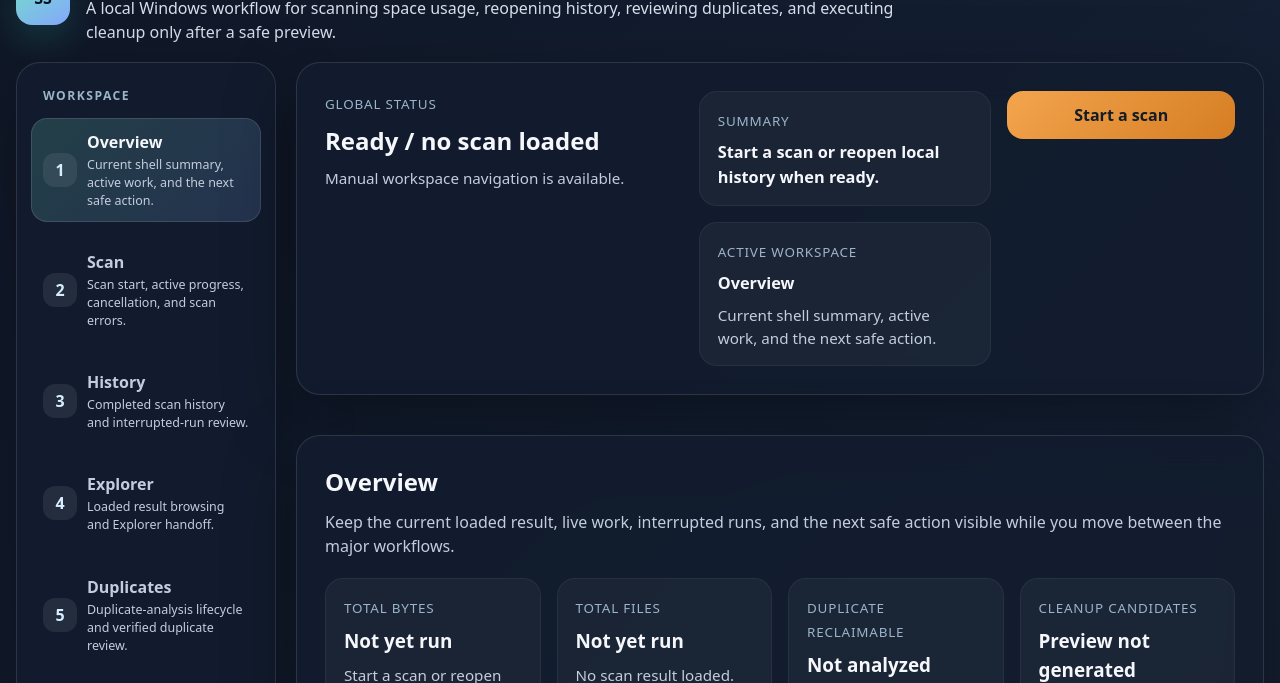
Test: Space Sift scan and history flow › starts, cancels, and reopens scan history from local data
Click the tab "Scan".
click(146, 290)  # box top-left (31, 238), bottom-right (261, 342)
(page scrolled)
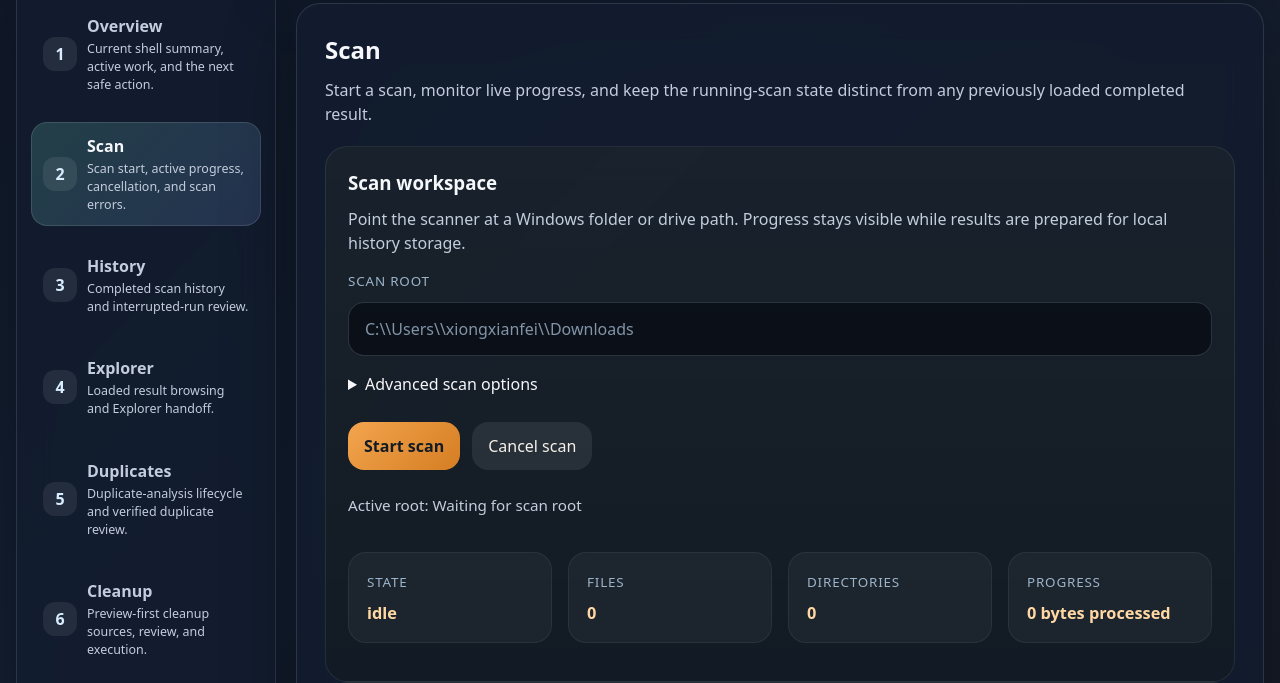
Result: the tab "Scan" is selected at top-left (31, 122), bottom-right (261, 226)
Type "C:\\Users\\xiongxianfei\\Downloads" into the field labelled "Scan root".
click(780, 329); type("C:\\Users\\xiongxianfei\\Downloads")  # box top-left (348, 302), bottom-right (1212, 356)
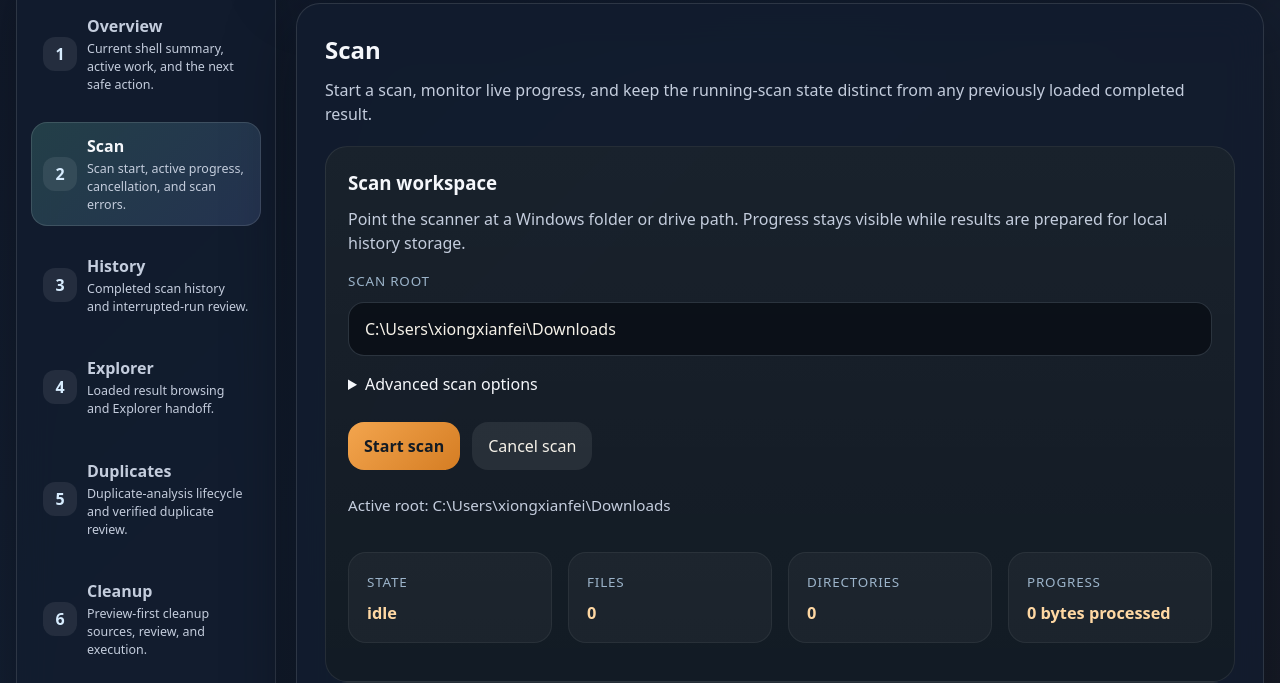
Click the button "Start scan".
click(404, 446)  # box top-left (348, 422), bottom-right (460, 470)
(page scrolled)
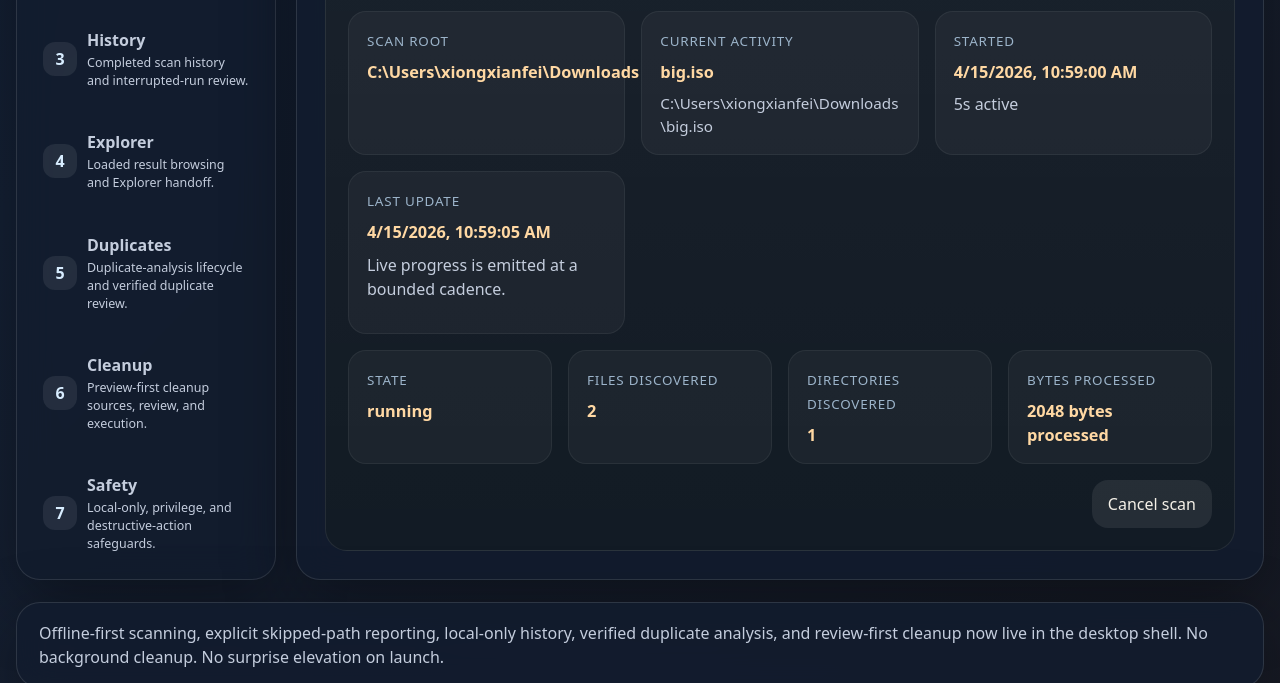
Result: the text "running" is shown at top-left (367, 400), bottom-right (433, 422)
Result: the text "2048 bytes processed" is shown at top-left (1027, 400), bottom-right (1113, 446)
Click the button "Cancel scan".
click(1152, 504)  # box top-left (1092, 480), bottom-right (1212, 528)
(page scrolled)
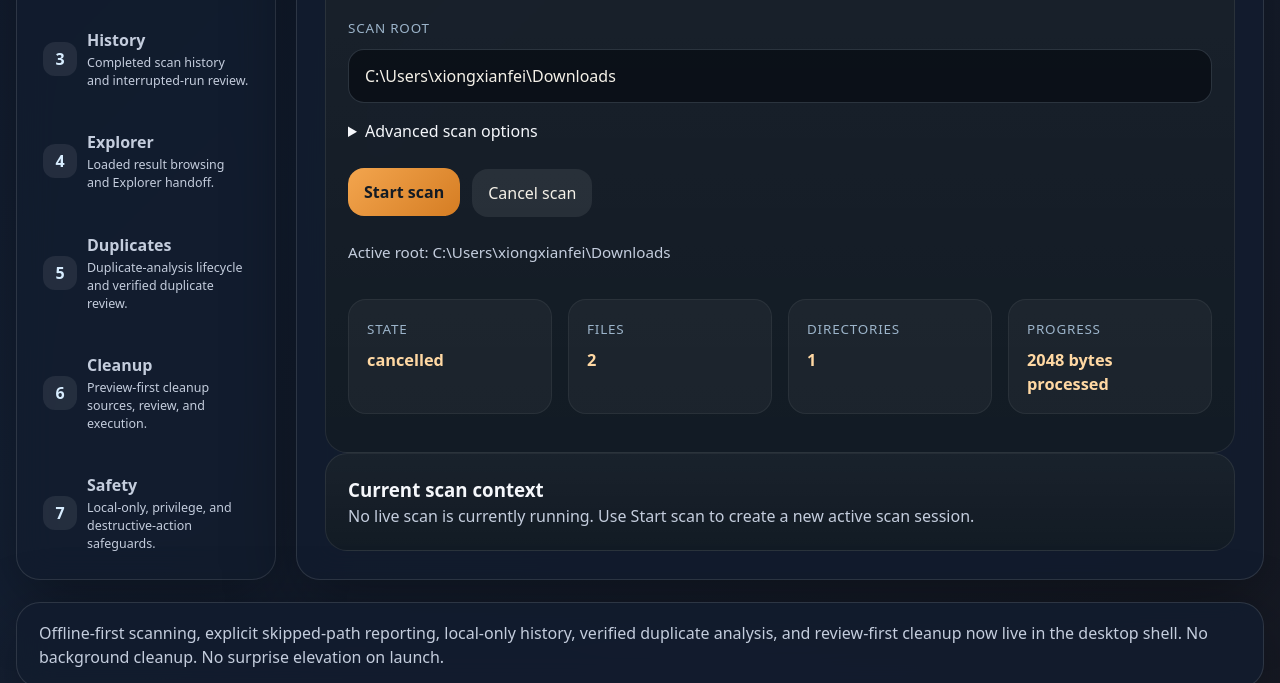
Click the tab "History".
click(146, 59)  # box top-left (31, 16), bottom-right (261, 102)
(page scrolled)
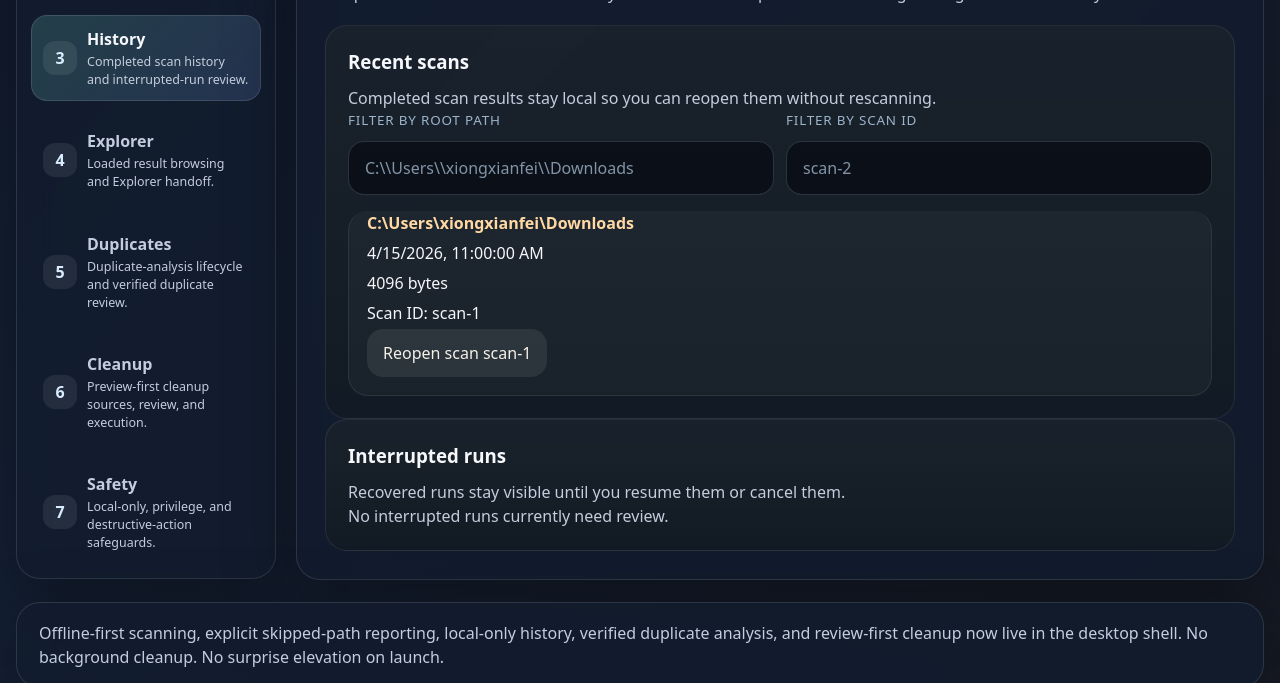
Result: the tab "History" is selected at top-left (31, 16), bottom-right (261, 102)
Click the button "Reopen scan scan-1".
click(457, 353)  # box top-left (367, 329), bottom-right (548, 377)
(page scrolled)
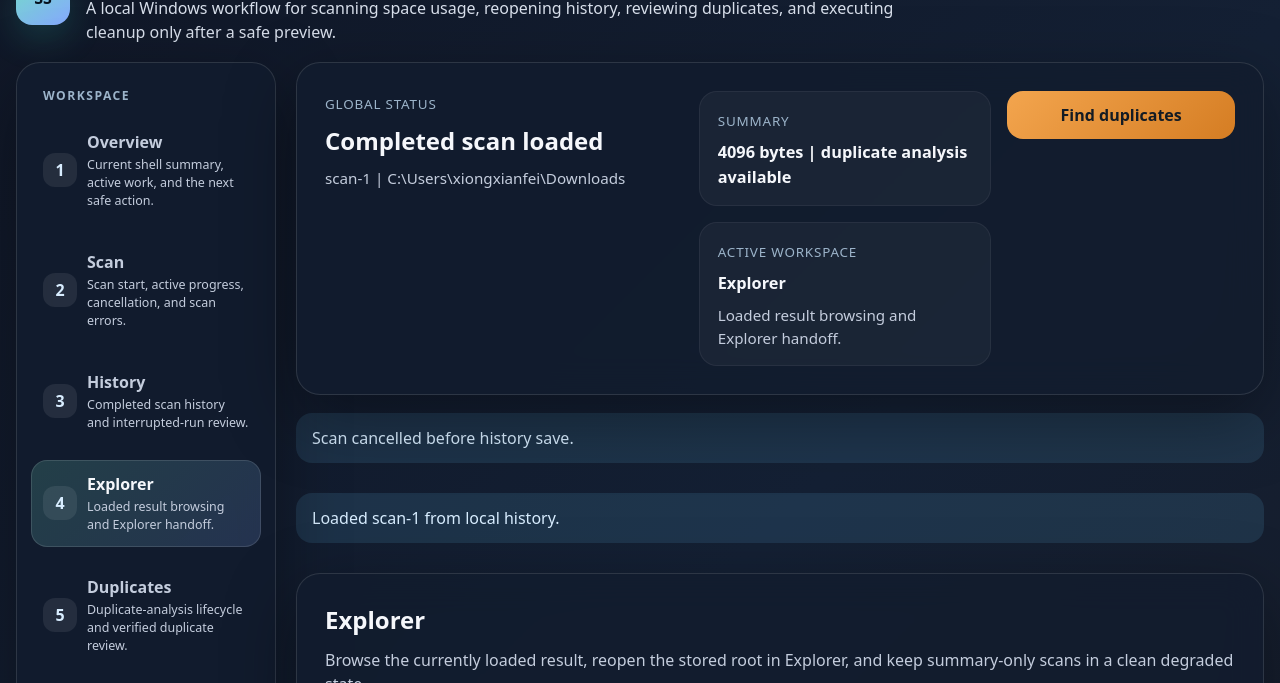
Result: the text "4096 bytes | duplicate analysis available" is shown at top-left (718, 140), bottom-right (972, 189)
